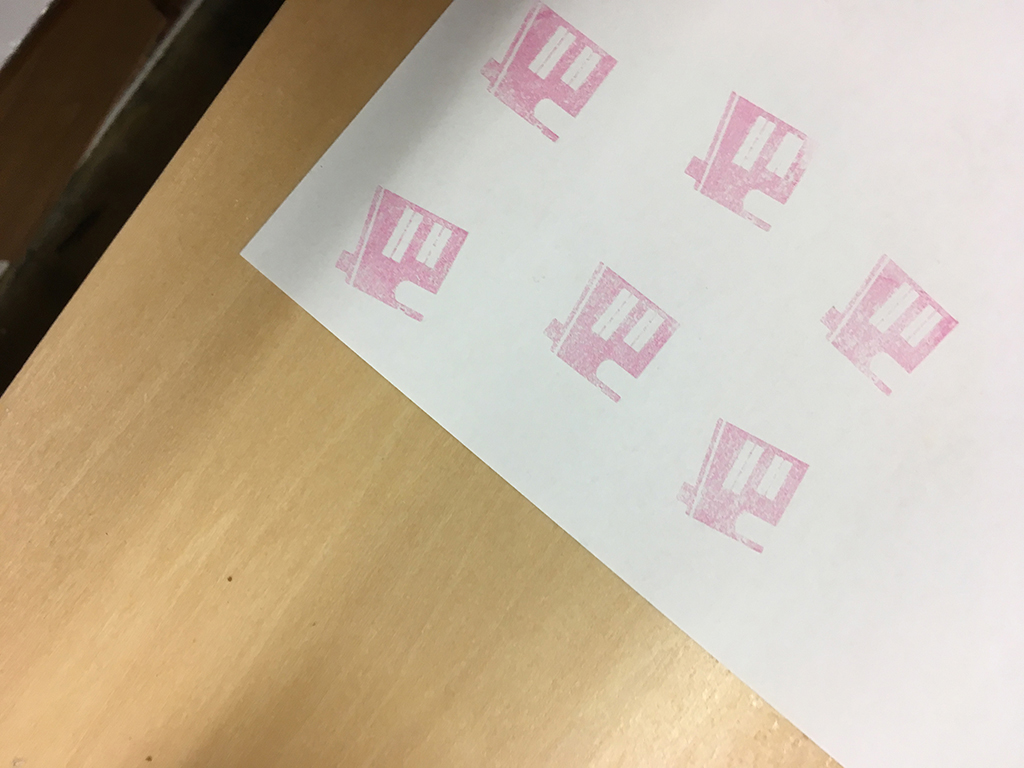house: (676, 78, 824, 241), (533, 253, 687, 408), (814, 240, 964, 399), (666, 407, 817, 558), (477, 1, 626, 152), (334, 172, 472, 331)
